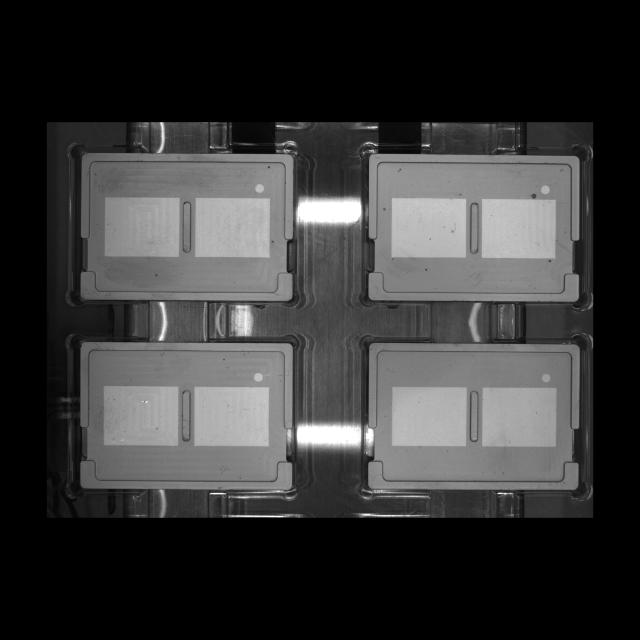product: (67, 331, 303, 502), (358, 139, 590, 312), (358, 332, 590, 502), (68, 143, 302, 309)
